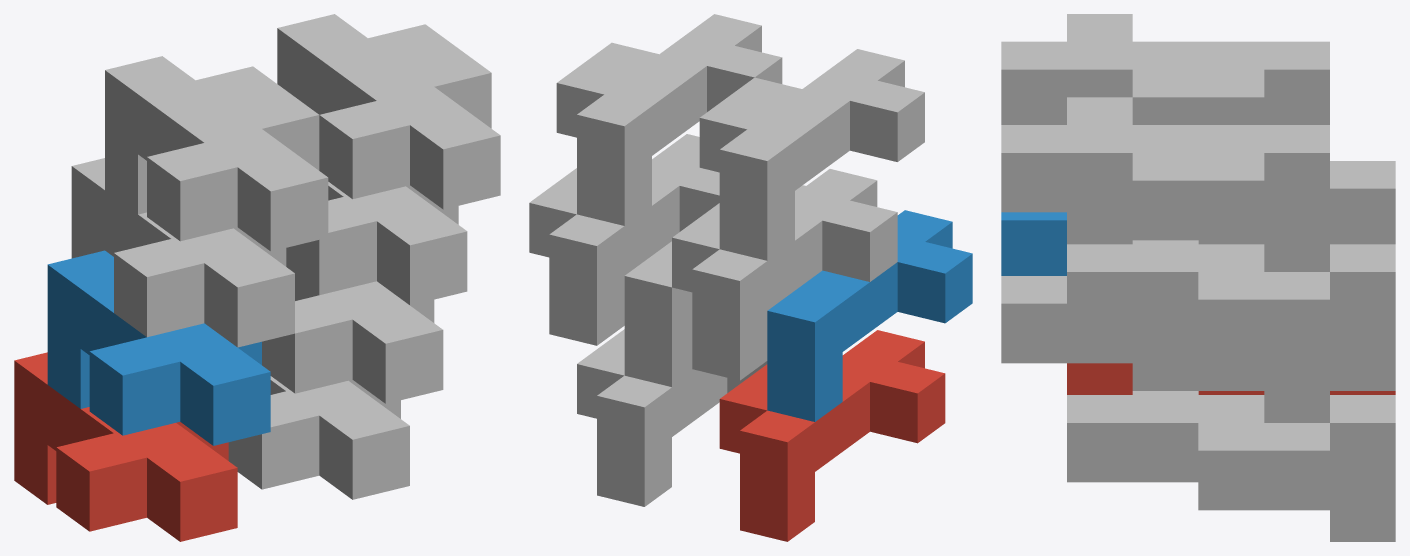
File: tiling.obj
3 renders of one model, left to right at view 1: azimuth 30°, elevation 25°; view 2: azimuth 150°, elevation 25°; view 3: azimuth 270°, elevation 25°, orthographic. The views are drawn at different scales.
Parts seen in each view (by area): view 1: copy_1_domain_4, copy_1_domain_8, copy_1_domain_2, copy_1_domain_1, copy_1_domain_3, copy_1_domain_6, copy_1_domain_7, copy_1_domain_5; view 2: copy_1_domain_4, copy_1_domain_8, copy_1_domain_1, copy_1_domain_3, copy_1_domain_2, copy_1_domain_7, copy_1_domain_5, copy_1_domain_6; view 3: copy_1_domain_8, copy_1_domain_5, copy_1_domain_7, copy_1_domain_4, copy_1_domain_6, copy_1_domain_3, copy_1_domain_2, copy_1_domain_1.
Boxes of the visible parts, x1,y1,x2,y2 form: copy_1_domain_4: [105, 56, 328, 251]; copy_1_domain_8: [277, 14, 500, 209]; copy_1_domain_2: [47, 250, 270, 445]; copy_1_domain_1: [14, 352, 237, 541]; copy_1_domain_3: [71, 158, 294, 347]; copy_1_domain_6: [262, 277, 443, 403]; copy_1_domain_7: [286, 182, 467, 305]; copy_1_domain_5: [228, 376, 409, 499]; copy_1_domain_4: [699, 49, 924, 260]; copy_1_domain_8: [556, 14, 782, 225]; copy_1_domain_1: [719, 330, 945, 541]; copy_1_domain_3: [672, 169, 897, 380]; copy_1_domain_2: [767, 210, 972, 421]; copy_1_domain_7: [529, 134, 719, 345]; copy_1_domain_5: [577, 329, 767, 506]; copy_1_domain_6: [624, 185, 805, 386]; copy_1_domain_8: [1001, 97, 1329, 271]; copy_1_domain_5: [1067, 391, 1395, 541]; copy_1_domain_7: [1067, 240, 1395, 390]; copy_1_domain_4: [1001, 14, 1329, 124]; copy_1_domain_6: [1001, 276, 1329, 422]; copy_1_domain_3: [1067, 161, 1395, 244]; copy_1_domain_2: [1001, 212, 1066, 275]; copy_1_domain_1: [1067, 363, 1395, 394].
Bounding box in the file's own units: 7 × 7 × 6.
